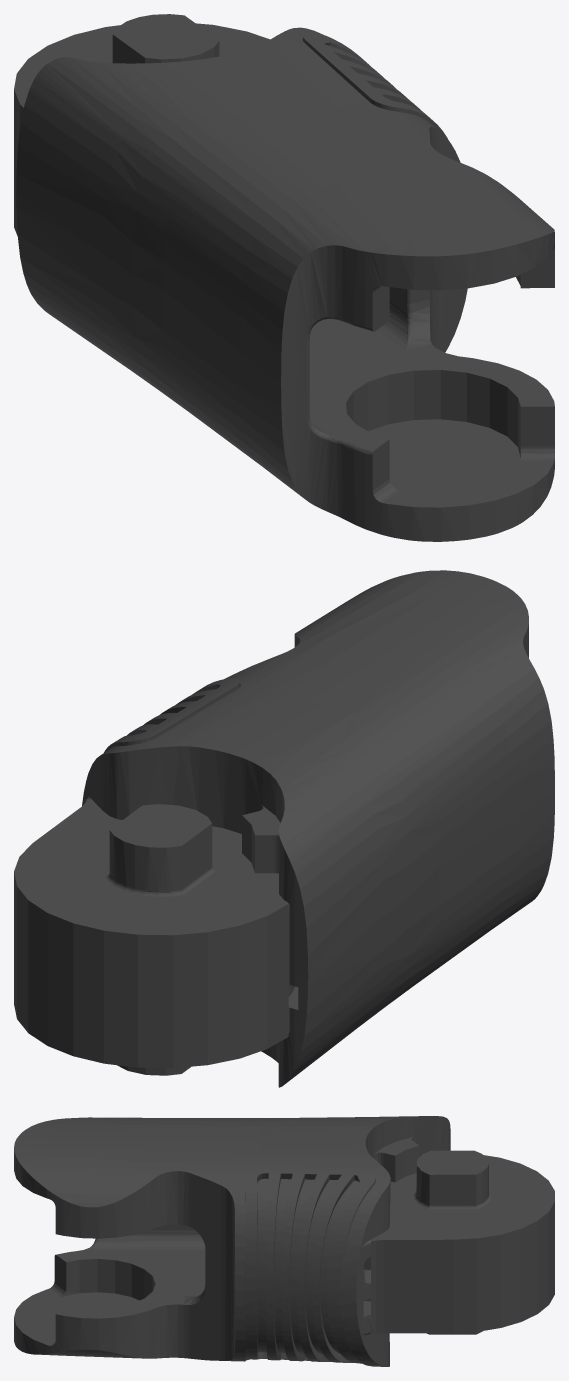
The model's file is rh_index_middle_vis.obj.
3 renders of one model, top to bottom at view 1: azimuth 30°, elevation 25°; view 2: azimuth 150°, elevation 25°; view 3: azimuth 270°, elevation 25°, orthographic. The views are drawn at different scales.
Parts seen in each view (by area): view 1: rh_index_middle; view 2: rh_index_middle; view 3: rh_index_middle.
Part boxes in pixels (left/top/right/bottom): rh_index_middle: left=14, top=14, right=554, bottom=541; rh_index_middle: left=14, top=570, right=554, bottom=1087; rh_index_middle: left=14, top=1116, right=554, bottom=1366.
Bounding box in the file's own units: 0.0163 × 0.015 × 0.0368.
1 material, 1 textured.
